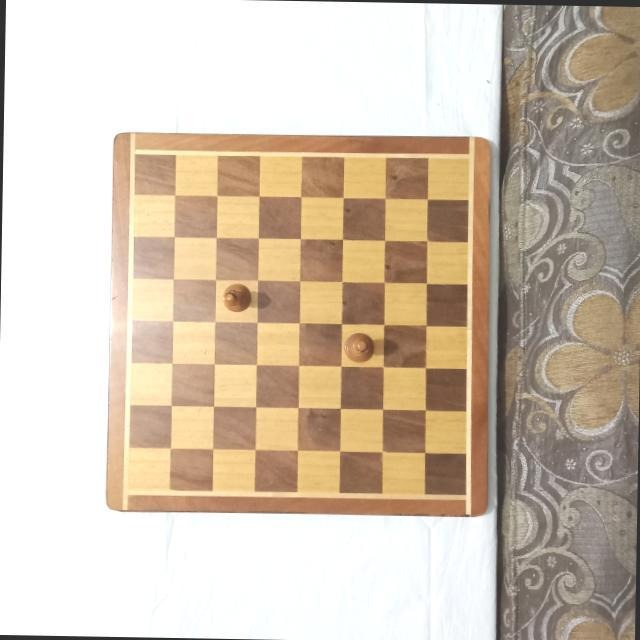white-bishop: (343, 329, 377, 363), (219, 282, 252, 313)
